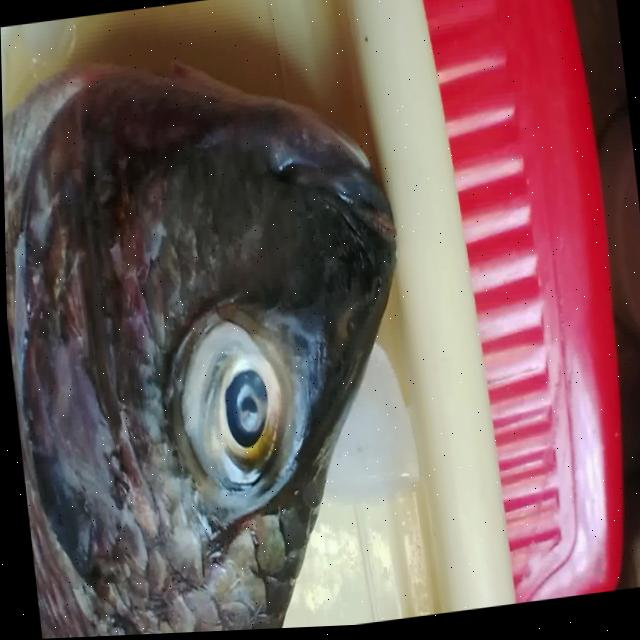Fresh: (134, 251, 353, 561)
